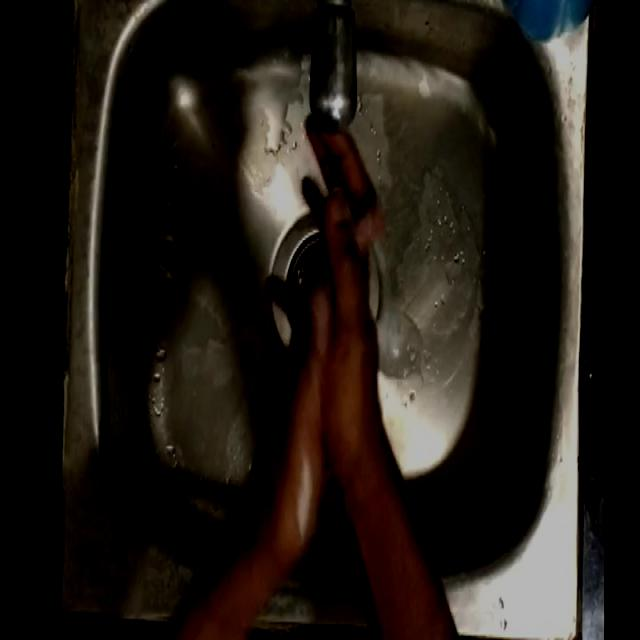step_3: (260, 105, 396, 468)
